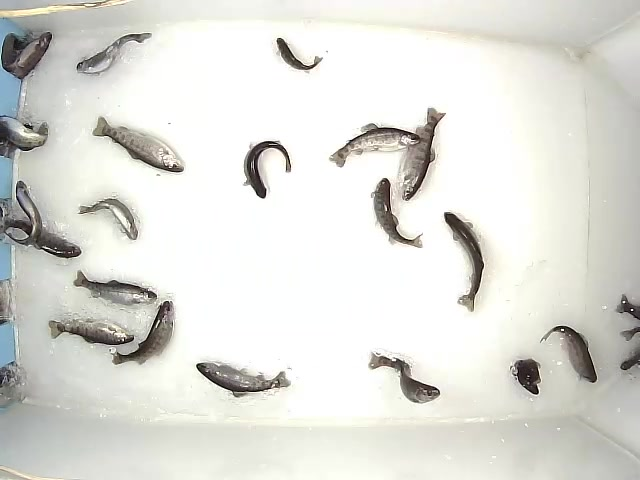fish: (91, 116, 186, 173), (396, 107, 446, 201), (109, 300, 175, 367), (327, 123, 422, 169), (442, 211, 485, 312), (367, 350, 441, 405), (370, 177, 423, 249), (75, 32, 154, 77), (195, 362, 292, 398), (539, 324, 597, 384), (2, 218, 82, 259), (73, 269, 158, 307), (242, 139, 292, 200), (76, 196, 139, 241), (4, 180, 43, 247), (47, 317, 136, 346), (5, 31, 53, 82), (275, 36, 325, 74), (510, 358, 541, 395)
